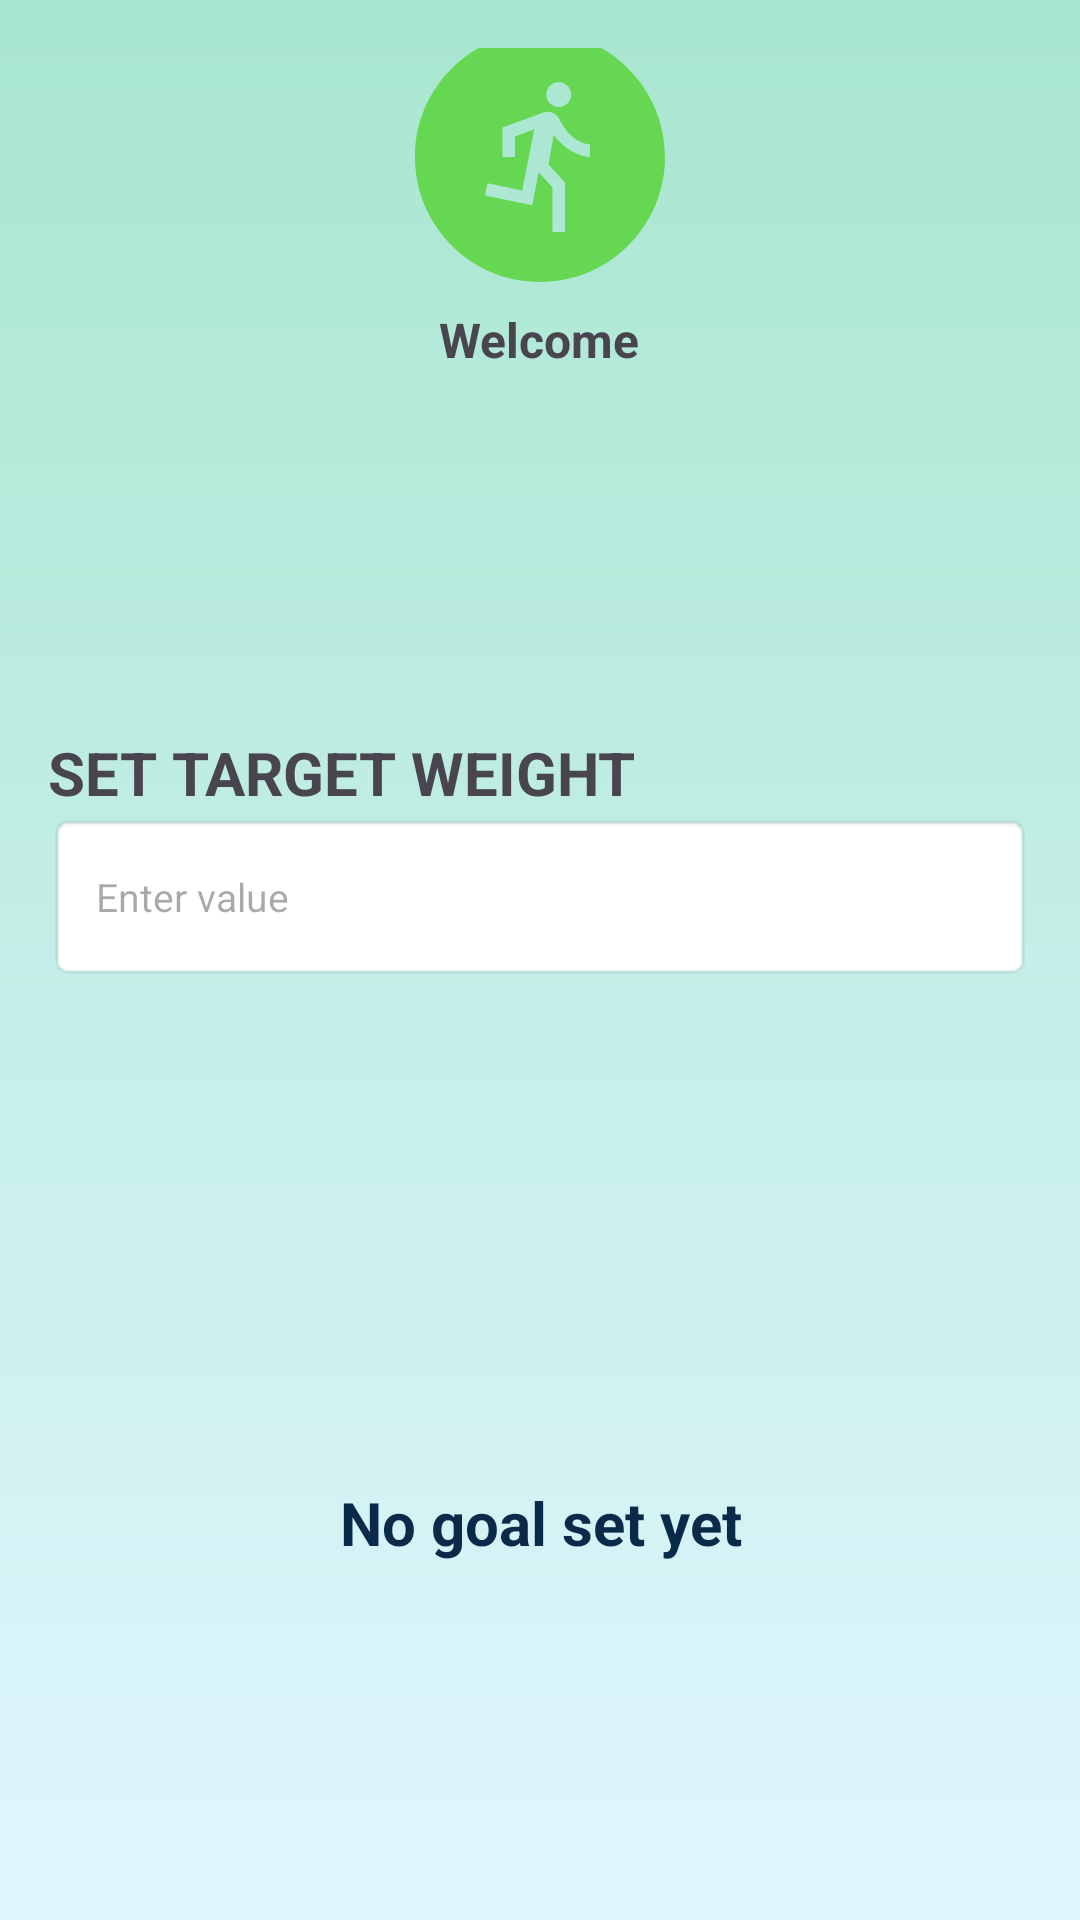

Where icons sit on this 1080px x 1920px app screen, as (x1, y1, x2, y2):
run circle: (415, 48, 665, 282)
